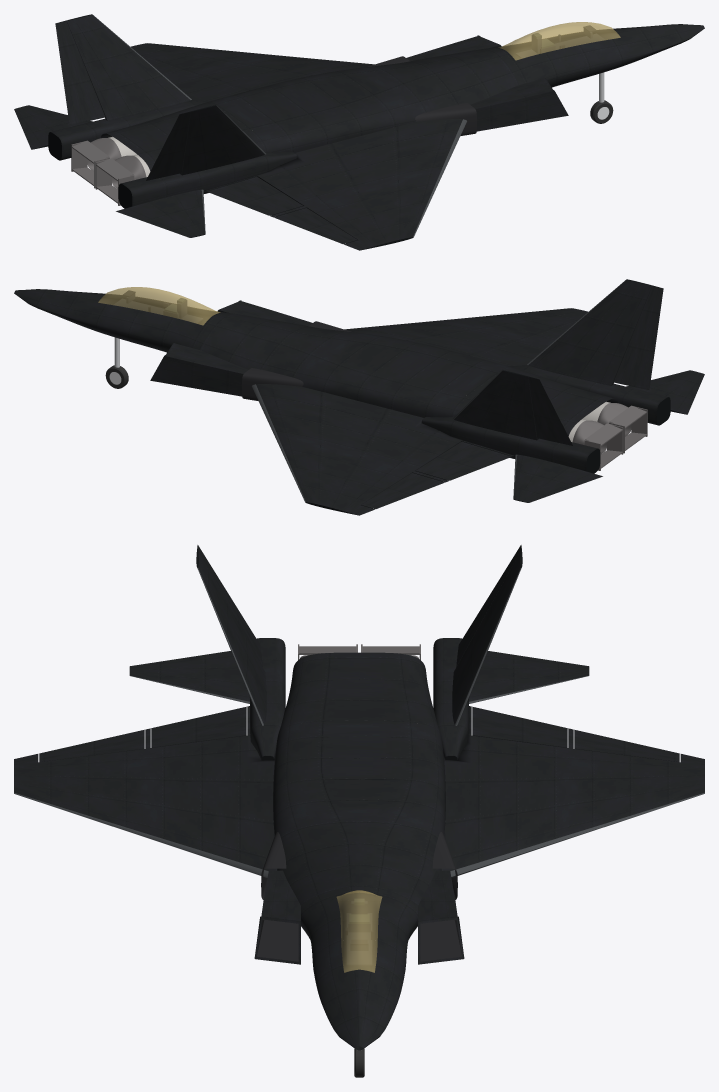
The picture shows the model from 3 angles, top to bottom: view 1: azimuth 30°, elevation 25°; view 2: azimuth 150°, elevation 25°; view 3: azimuth 270°, elevation 25°; orthographic projection. The views are drawn at different scales.
Parts seen in each view (by area): view 1: fuselaje.central, ala.derecha, fuselaje.trasero, ala.izquierda, fuselaje.delantero, deriva.izquierda, deriva.derecha, toma.derecha, timon.izquierda, estabilizador.derecho, cabina, flaperon.derecha (+10 smaller); view 2: fuselaje.central, ala.izquierda, fuselaje.trasero, ala.derecha, fuselaje.delantero, deriva.derecha, deriva.izquierda, toma.izquierda, timon.derecha, estabilizador.izquierdo, cabina, flaperon.izquierda (+10 smaller); view 3: fuselaje.central, ala.izquierda, ala.derecha, fuselaje.trasero, fuselaje.delantero, estabilizador.derecho, estabilizador.izquierdo, toma.izquierda, toma.derecha, cabina, deriva.izquierda, deriva.derecha (+7 smaller).
Boxes of the visible parts, box(x1,y1,x2,y2) form: fuselaje.central: box(209, 49, 518, 152); ala.derecha: box(204, 119, 466, 250); fuselaje.trasero: box(48, 100, 297, 208); ala.izquierda: box(131, 43, 374, 100); fuselaje.delantero: box(481, 24, 704, 87); deriva.izquierda: box(66, 14, 191, 120); deriva.derecha: box(180, 105, 265, 175); toma.derecha: box(470, 78, 568, 131); timon.izquierda: box(55, 20, 104, 124); estabilizador.derecho: box(116, 189, 205, 237); cabina: box(499, 22, 620, 60); flaperon.derecha: box(207, 176, 302, 215); fuselaje.central: box(200, 314, 509, 417); ala.izquierda: box(252, 384, 514, 515); fuselaje.trasero: box(421, 365, 670, 473); ala.derecha: box(344, 308, 587, 365); fuselaje.delantero: box(14, 289, 237, 352); deriva.derecha: box(527, 279, 652, 385); deriva.izquierda: box(453, 370, 538, 440); toma.izquierda: box(150, 343, 248, 396); timon.derecha: box(613, 285, 663, 389); estabilizador.izquierdo: box(513, 454, 602, 502); cabina: box(98, 287, 220, 325); flaperon.izquierda: box(416, 441, 511, 480); fuselaje.central: box(261, 721, 457, 940); ala.izquierda: box(441, 706, 704, 877); ala.derecha: box(14, 706, 277, 877); fuselaje.trasero: box(250, 638, 468, 760); fuselaje.delantero: box(301, 886, 417, 1050); estabilizador.derecho: box(129, 651, 249, 703); estabilizador.izquierdo: box(469, 651, 589, 703); toma.izquierda: box(418, 870, 464, 964); toma.derecha: box(254, 870, 300, 964); cabina: box(336, 890, 382, 972); deriva.izquierda: box(452, 551, 522, 725); deriva.derecha: box(196, 551, 266, 725).
Size of the model in its own units: 18.6 by 4.85 by 13.56.
Materials: 16 (1 with a texture image).
